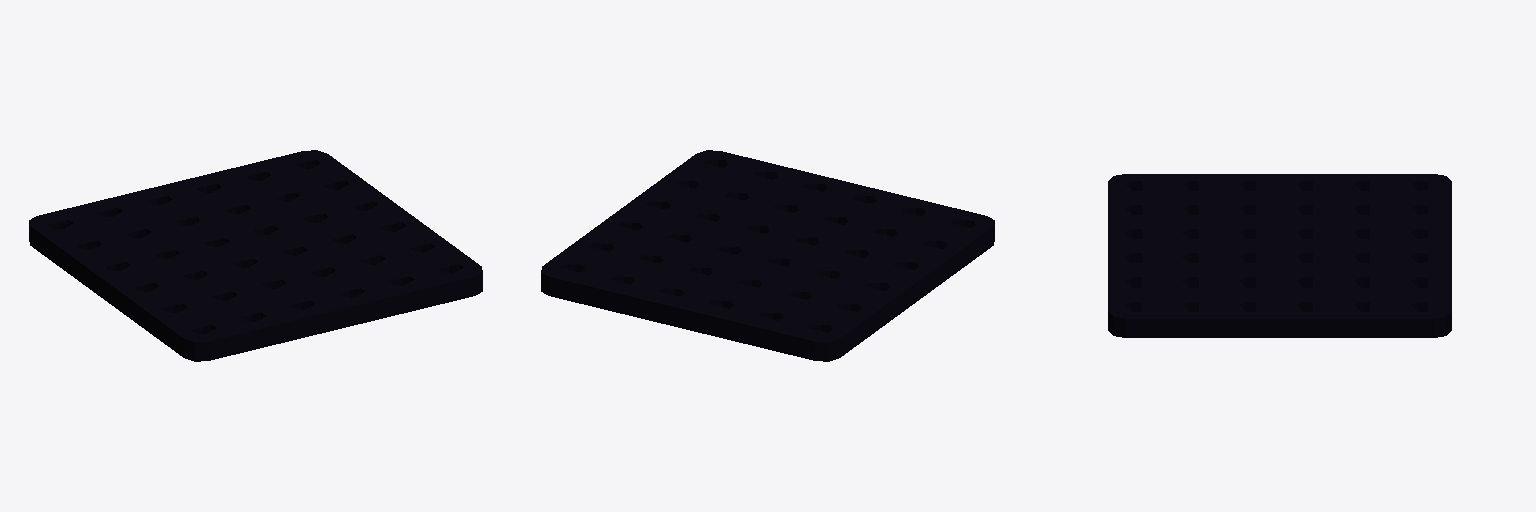
Rendered from Trap_empty.obj.
3 renders of one model, left to right at view 1: azimuth 30°, elevation 25°; view 2: azimuth 150°, elevation 25°; view 3: azimuth 270°, elevation 25°, orthographic.
Parts seen in each view (by area): view 1: Trap_empty_Cube.051; view 2: Trap_empty_Cube.051; view 3: Trap_empty_Cube.051.
Part boxes in pixels (left/top/right/bottom): Trap_empty_Cube.051: left=29, top=150, right=482, bottom=361; Trap_empty_Cube.051: left=541, top=150, right=994, bottom=361; Trap_empty_Cube.051: left=1108, top=174, right=1451, bottom=337.
Bounding box in the file's own units: 1.99 × 0.1248 × 1.99.